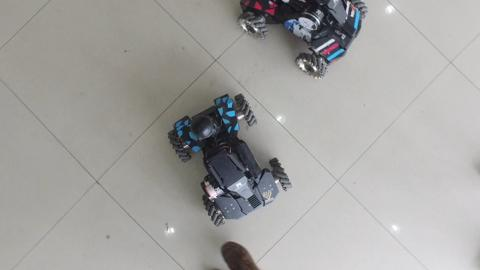chariot: (165, 87, 300, 230), (234, 1, 379, 83)
